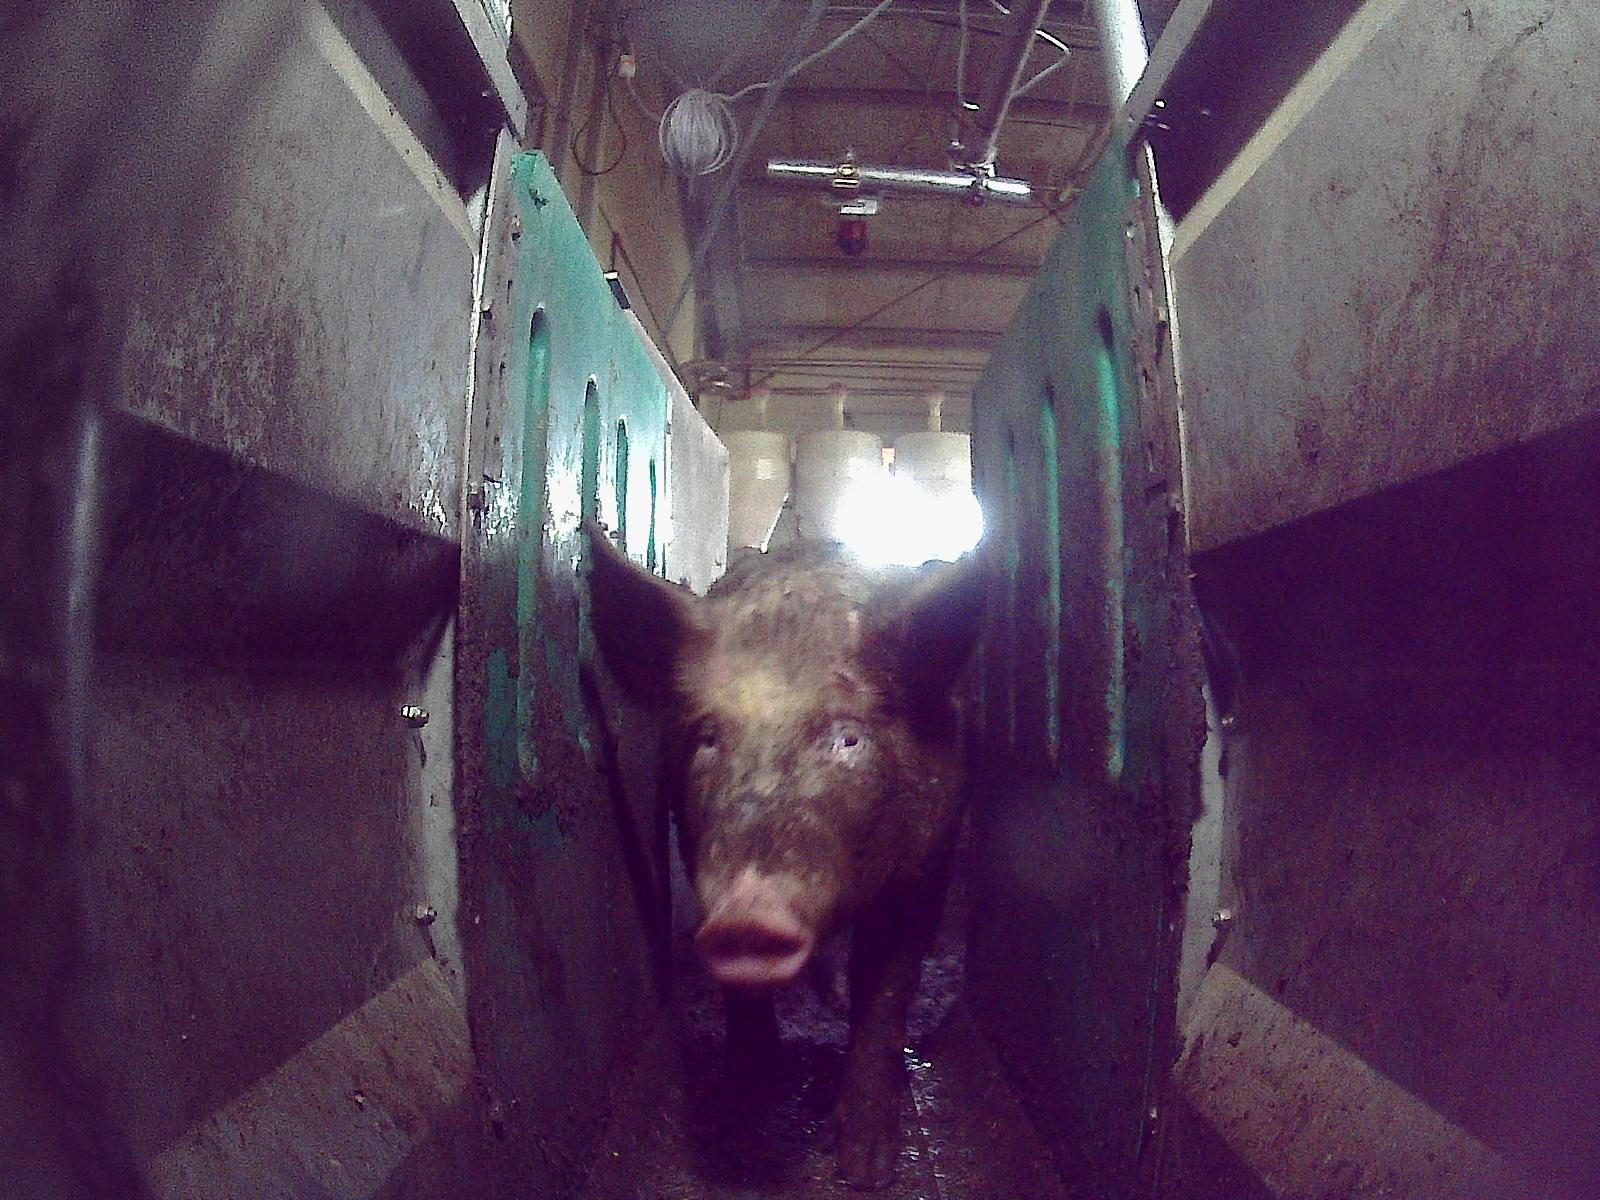Face: (663, 639, 911, 986)
